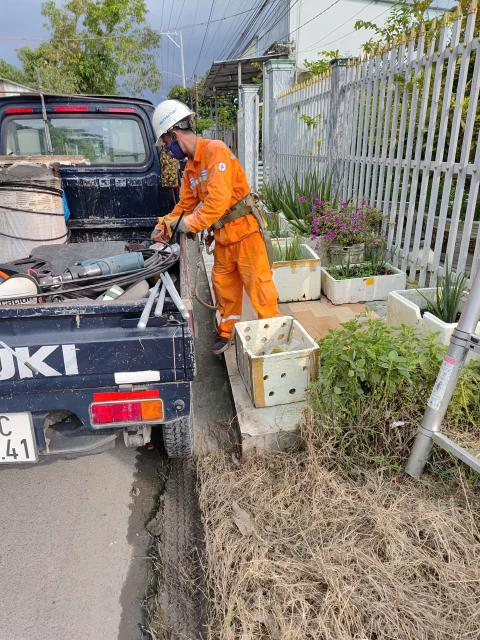gloves: (145, 222, 170, 249), (166, 216, 196, 236)
harness: (193, 188, 261, 226)
helmet: (134, 92, 202, 139)
shoes: (202, 331, 242, 355)
